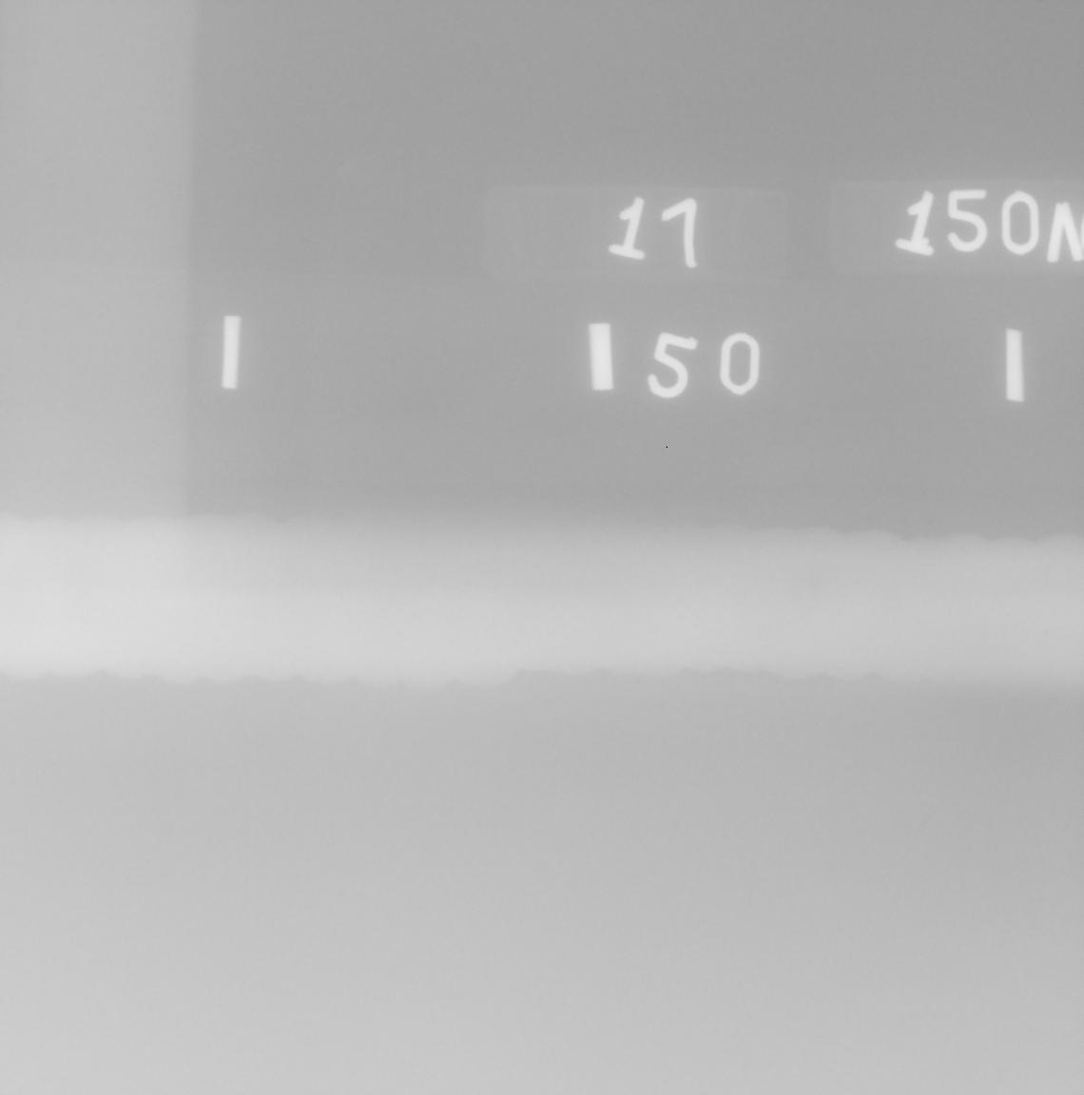Pore/Porosity: (1045, 629, 1048, 634)
